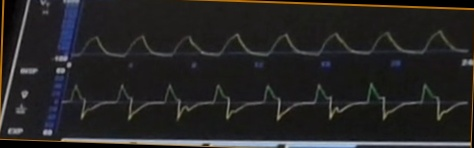Premature_cycling Flow: (67, 74, 467, 129)
Premature_cycling Volume: (75, 17, 467, 58)
